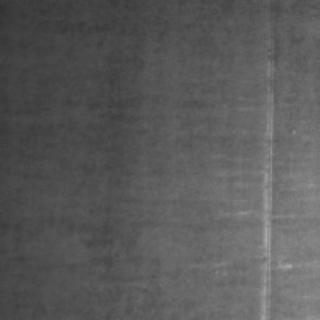scratches: (255, 53, 275, 317)
